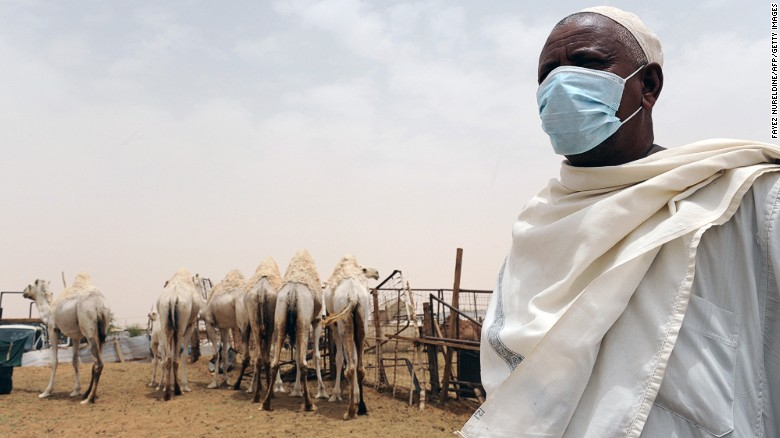mask: (535, 69, 625, 152)
